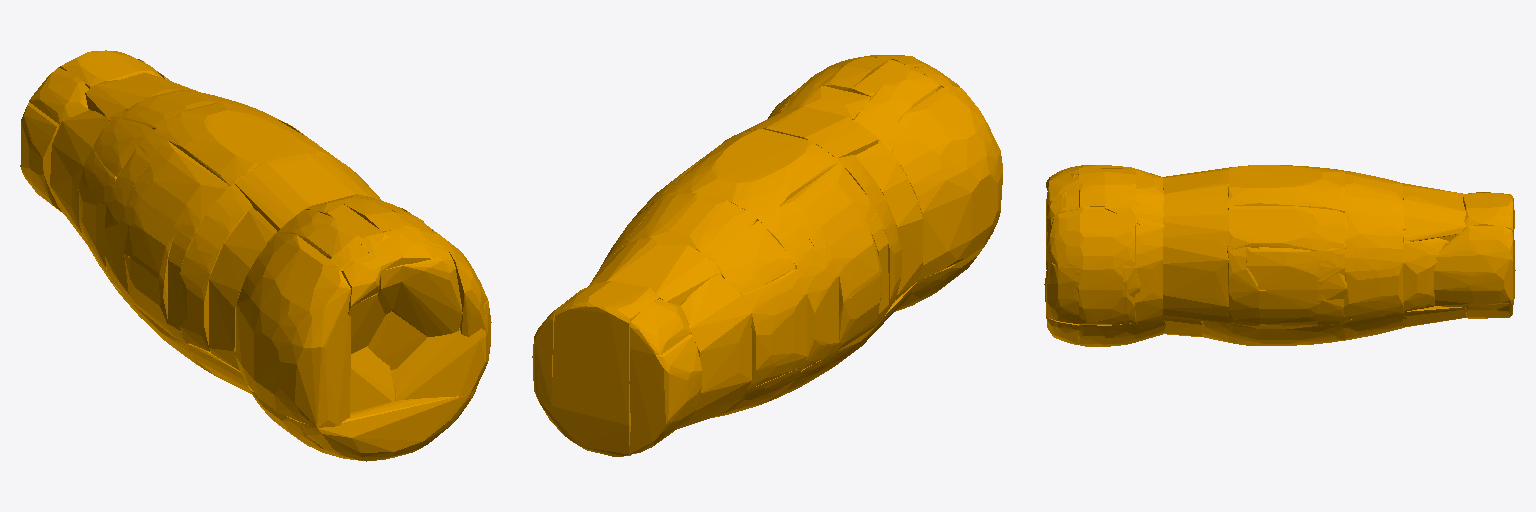
URDF robot description (bottle-v8):
<?xml version="1.0" ?>
<robot name="bottle-v8">
  <link name="baseLink">
    <contact>
      <lateral_friction value="1.0"/>
      <inertia_scaling value="3.0"/>
    </contact>
    <inertial>
      <origin rpy="0 0 0" xyz="0.000 0.000 0.000"/>
       <mass value=".1"/>
       <inertia ixx="1" ixy="0.0" ixz="0.0" iyy="1" iyz="0.0" izz="1"/>
    </inertial>
    <visual>
      <origin rpy="0 0 0" xyz="0 0 0"/>
      <geometry>
        <mesh filename="bottle/bottle-v8_small.obj" scale="1.0 1.0 1.0"/>
      </geometry>
    </visual>
    <collision>
      <origin rpy="0 0 0" xyz="0 0 0"/>
      <geometry>
        <mesh filename="../collision/bottle/bottle-v8_small.obj" scale="1.0 1.0 1.0"/>
      </geometry>
    </collision>
  </link>
</robot>
        

--- What the picture shows (computed from the rendered views, not written in the file) ---
3 views of the same robot in one strip: view 1: azimuth 30°, elevation 25°; view 2: azimuth 150°, elevation 25°; view 3: azimuth 270°, elevation 25° (orthographic).
Model bottle-v8 with 1 links and 0 joints (none), rooted at baseLink, posed all joints at 0.
Links seen in each view (by area): view 1: baseLink; view 2: baseLink; view 3: baseLink.
Link boxes in pixels (box(x1,y1,x2,y2)): baseLink: box(20, 50, 491, 461); baseLink: box(532, 55, 1002, 456); baseLink: box(1044, 165, 1515, 346).
Bounding box of the posed robot: 0.0574 × 0.1505 × 0.0596 m (x, y, z).
1 mesh visuals loaded from 1 distinct referenced files (1 OBJ).